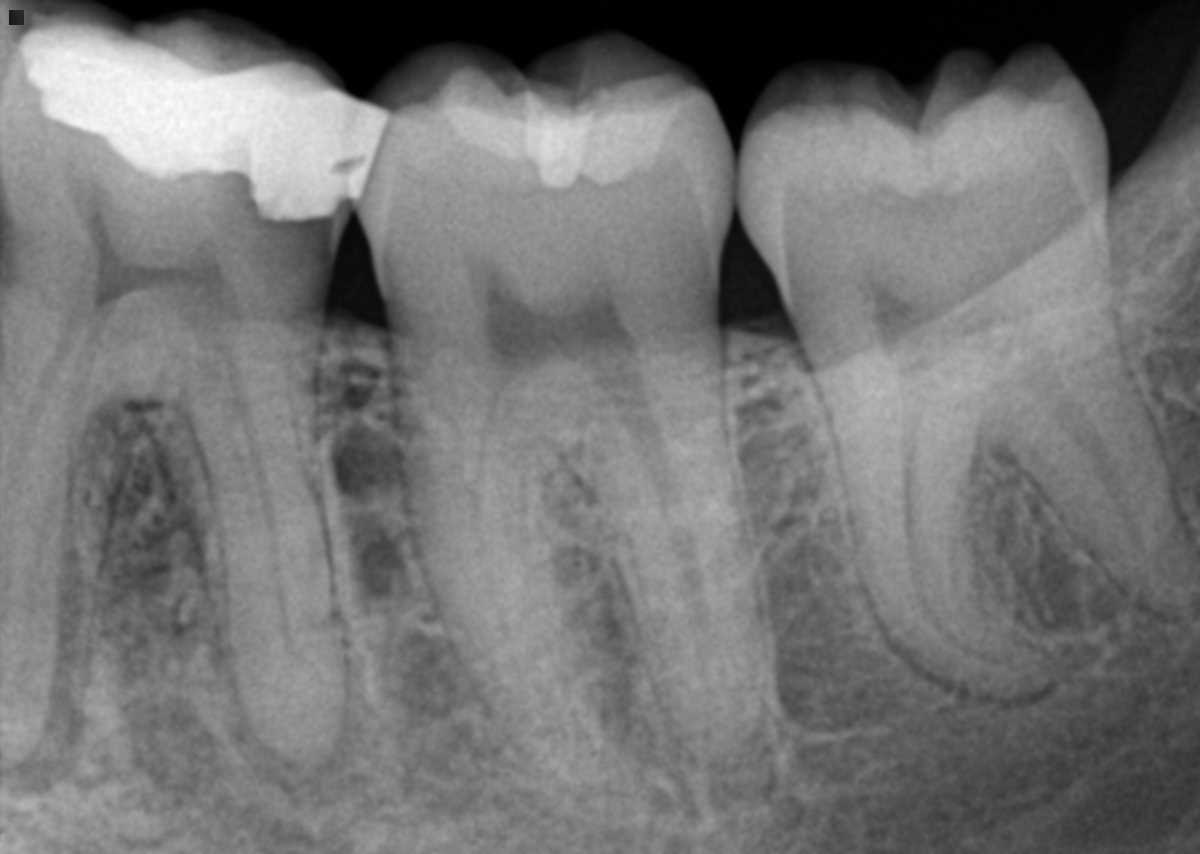Apical Lesion: (226, 644, 400, 826), (0, 557, 99, 801)
Distal Canal: (194, 300, 327, 695), (600, 356, 719, 704), (1030, 355, 1153, 567)
Distal Root: (568, 333, 766, 768), (164, 343, 340, 763), (988, 312, 1200, 620)
Mesial Canal: (900, 384, 1041, 664), (469, 365, 534, 699), (62, 301, 113, 448)
Mesial Root: (383, 360, 613, 775), (827, 380, 1056, 708), (0, 304, 157, 764)
decay: (212, 176, 335, 331)
